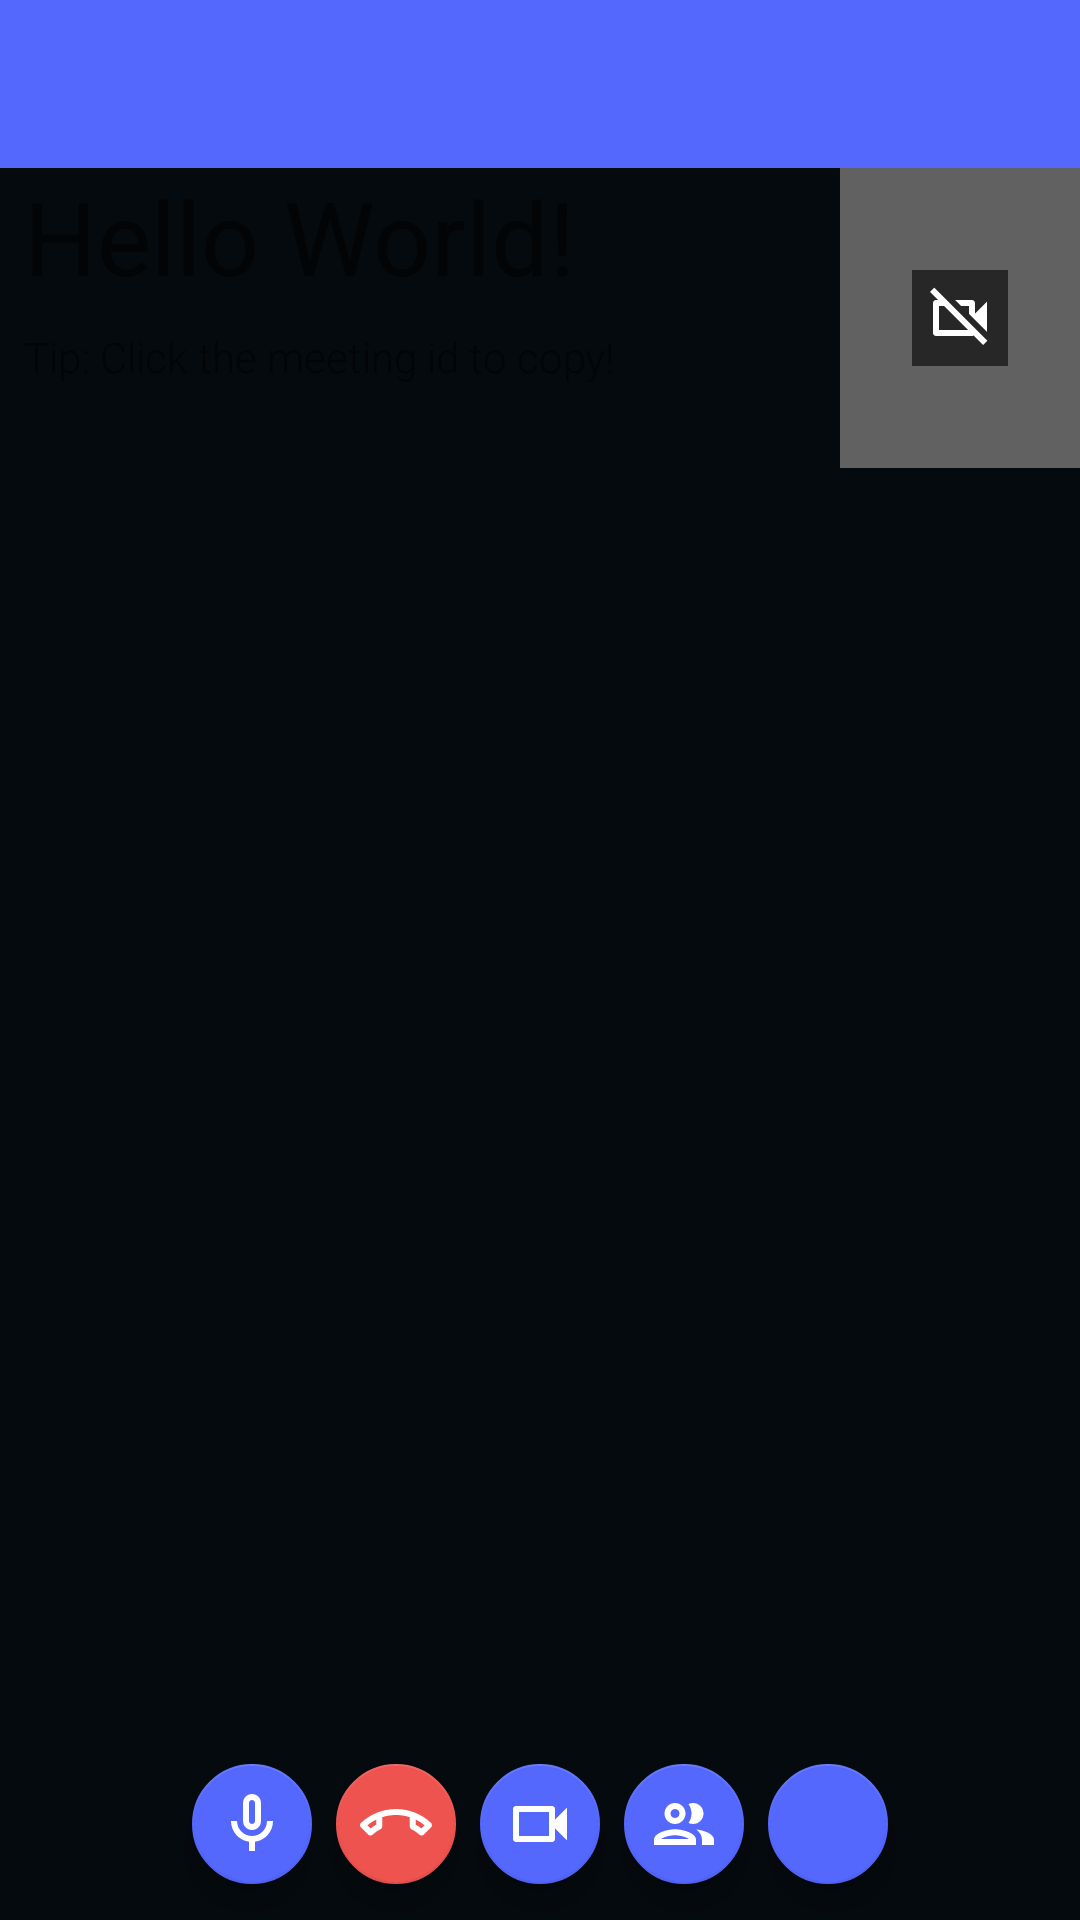

Named icons in this screenshot (1080px x 1920px) and their bounding boxes, bbox(x1, y1, x2, y2):
Leave meeting: bbox(336, 1764, 456, 1884)
people: bbox(624, 1764, 744, 1884)
Toggle camera: bbox(480, 1764, 600, 1884)
Toggle mic: bbox(192, 1764, 312, 1884)
Webcam turned off: bbox(912, 270, 1008, 366)
